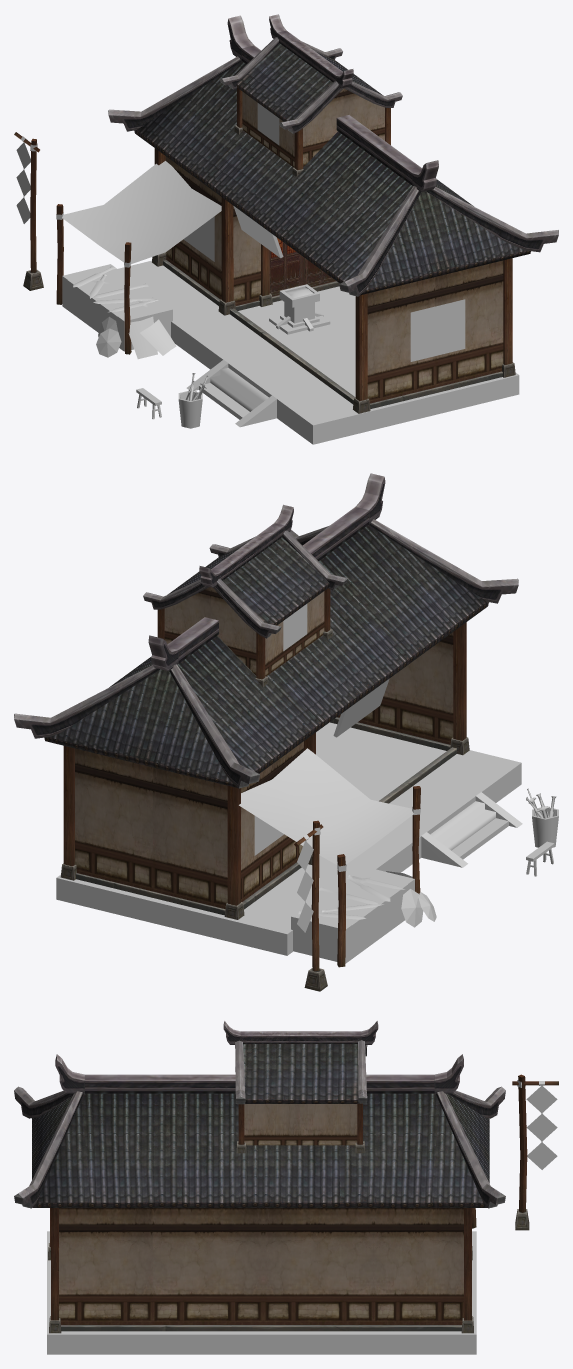
Rendered from s7_unioncity_jianzhu_tiejiangpu.FBX.
3 renders of one model, top to bottom at view 1: azimuth 30°, elevation 25°; view 2: azimuth 150°, elevation 25°; view 3: azimuth 270°, elevation 25°, orthographic. The views are drawn at different scales.
Visible parts, largest first — view 1: s7, work; view 2: s7, work; view 3: s7, work.
Part boxes in pixels (x1=…): s7: x1=14, y1=14, x2=558, y2=413; work: x1=16, y1=103, x2=519, y2=444; s7: x1=14, y1=473, x2=518, y2=991; work: x1=56, y1=604, x2=558, y2=963; s7: x1=14, y1=1021, x2=558, y2=1333; work: x1=47, y1=1080, x2=557, y2=1354.
Bounding box in the file's own units: 330537 × 271731 × 462447.
